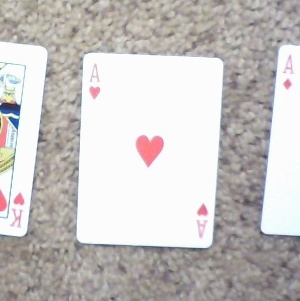card: (75, 51, 224, 250)
